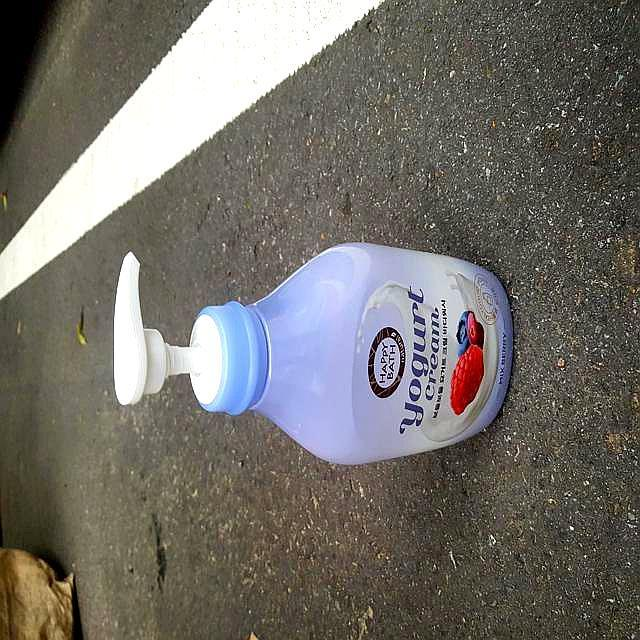Non-biodegradable: (111, 239, 518, 468)
